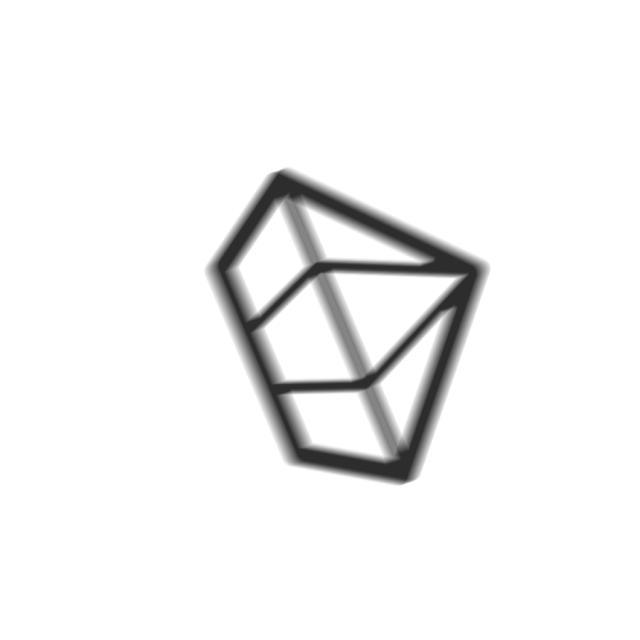diamond: (199, 161, 496, 494)
